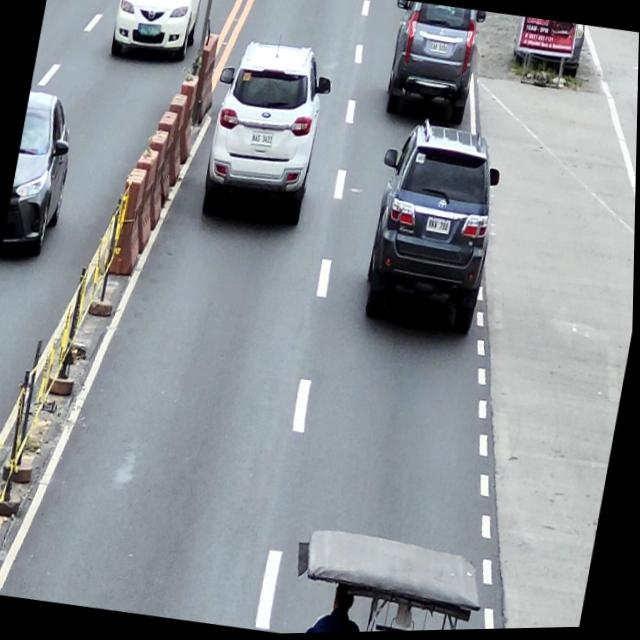Car: (356, 114, 509, 341), (196, 36, 338, 231), (377, 0, 486, 128), (2, 91, 81, 263), (109, 0, 206, 67)
License-Plate: (427, 219, 452, 237), (251, 133, 274, 149), (429, 43, 449, 57), (140, 25, 158, 38)
Tricycle: (287, 526, 493, 635)
